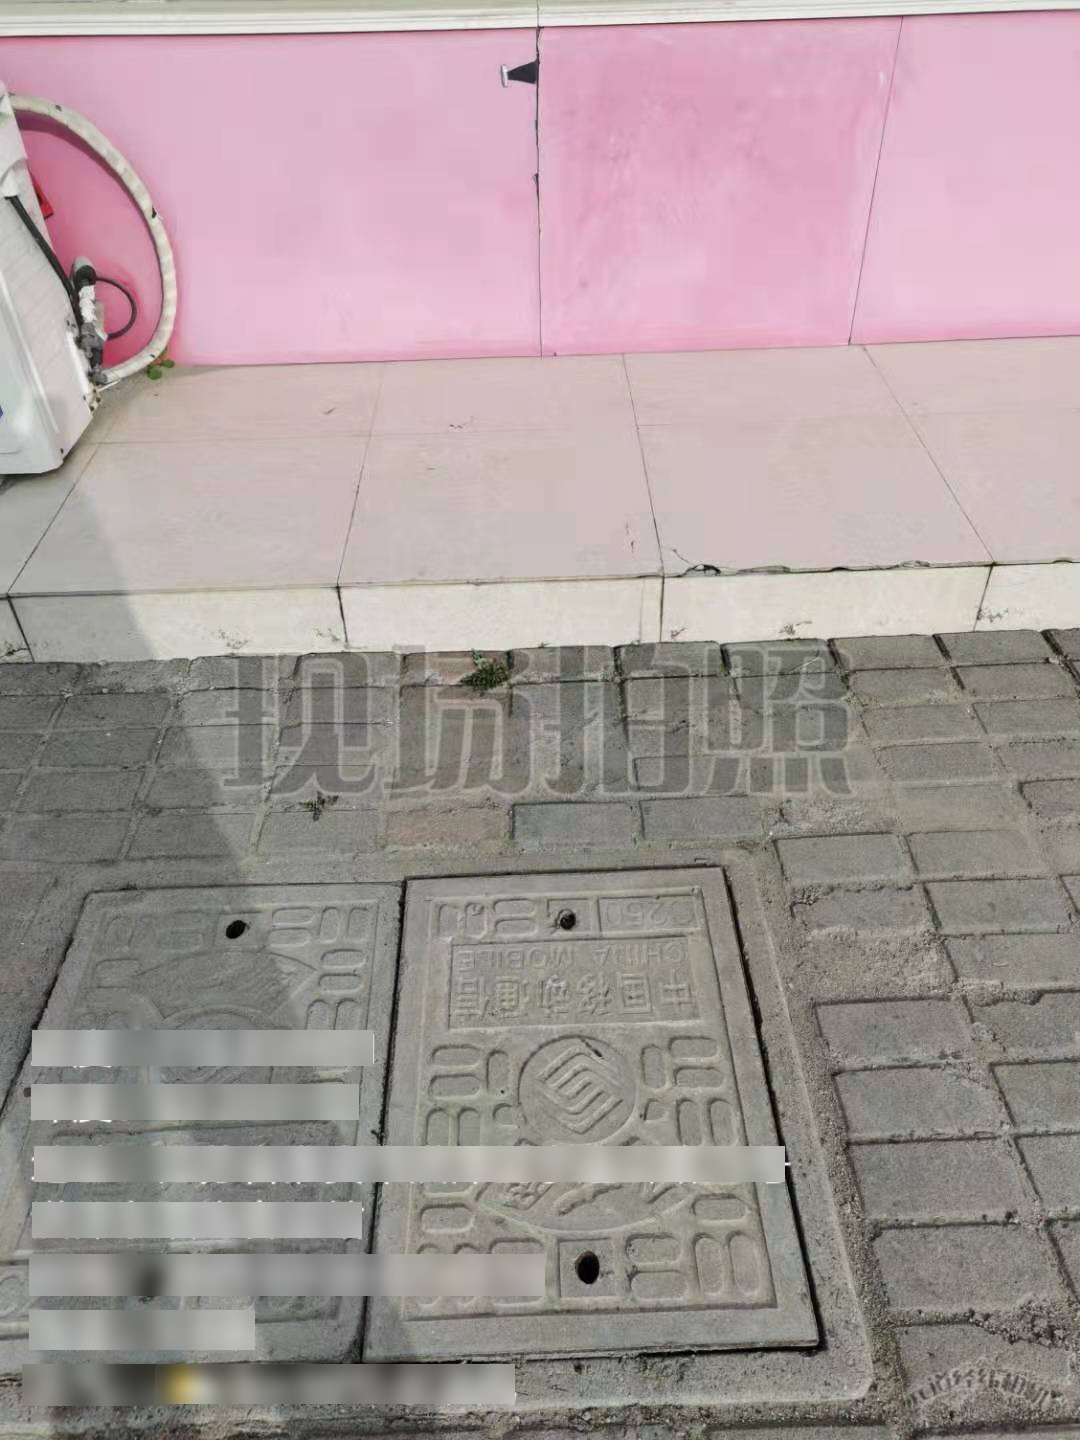good: (1, 849, 874, 1409)
